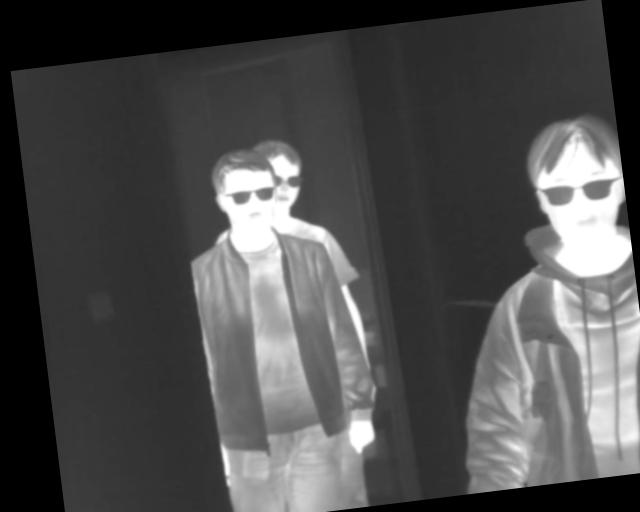face: (522, 108, 630, 257), (210, 145, 281, 238), (256, 135, 307, 214)
